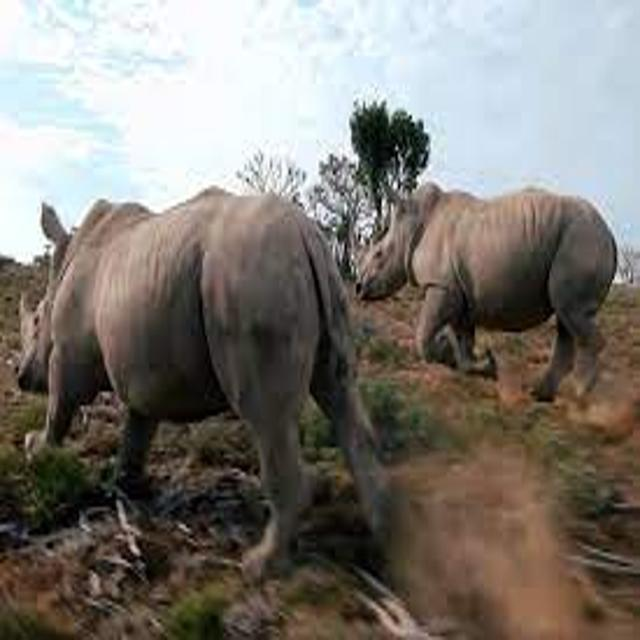rhino: (1, 173, 421, 610), (328, 145, 640, 453)
